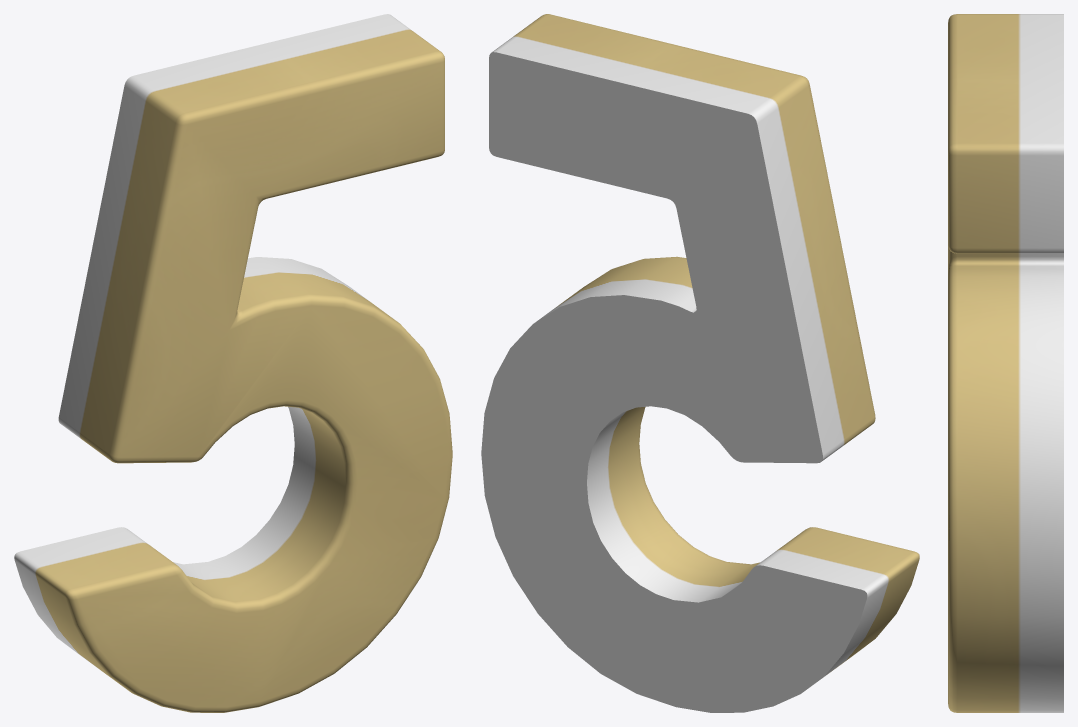
Rendered from LettersLightUp01_5.FBX.
3 renders of one model, left to right at view 1: azimuth 30°, elevation 25°; view 2: azimuth 150°, elevation 25°; view 3: azimuth 270°, elevation 25°, orthographic. The views are drawn at different scales.
Parts seen in each view (by area): view 1: LettersLightUp01_5; view 2: LettersLightUp01_5; view 3: LettersLightUp01_5.
Part boxes in pixels (x1,y1,x2,y2): LettersLightUp01_5: (14,14,452,712); LettersLightUp01_5: (481,14,919,712); LettersLightUp01_5: (948,14,1063,712).
Size of what is drawn, in the model's own units: 0.407 by 0.6153 by 0.1012.
